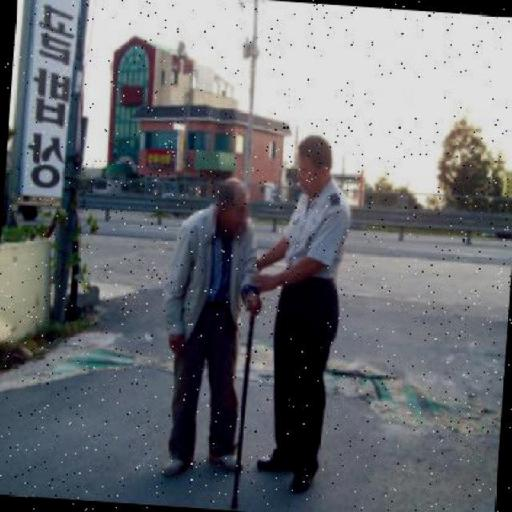pessoa: (244, 132, 351, 493), (155, 172, 267, 483)
